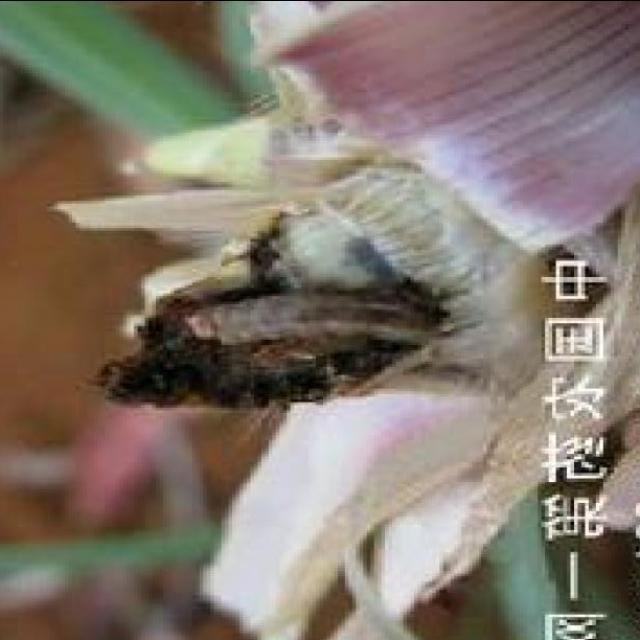stem borer: (96, 228, 448, 407)
